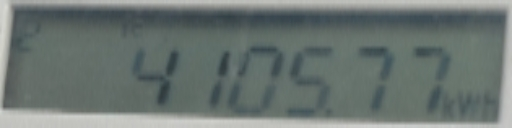0: (228, 30, 292, 128)
1: (203, 35, 231, 128)
4: (128, 28, 187, 126)
5: (284, 33, 334, 128)
7: (347, 35, 401, 128), (413, 34, 449, 119)
d: (324, 103, 344, 115)
